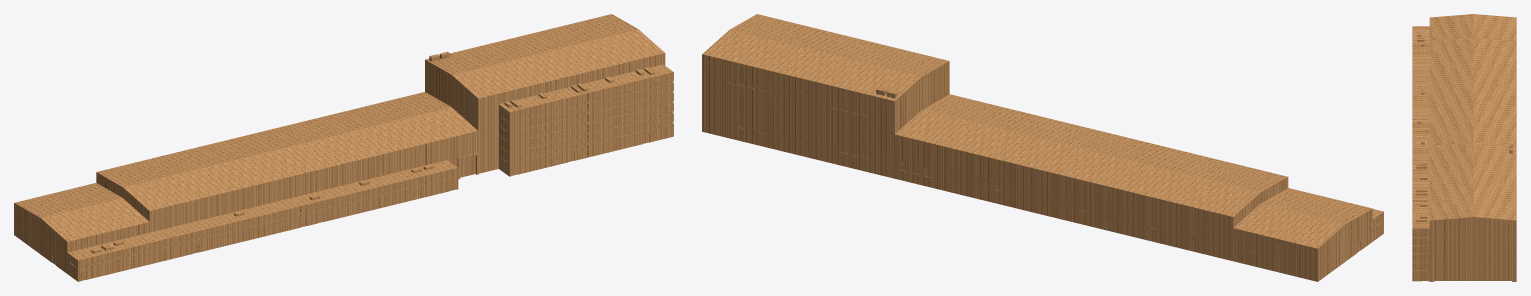
Rendered from Shipyard.FBX.
3 renders of one model, left to right at view 1: azimuth 30°, elevation 25°; view 2: azimuth 150°, elevation 25°; view 3: azimuth 270°, elevation 25°, orthographic. The views are drawn at different scales.
Parts seen in each view (by area): view 1: Group1; view 2: Group1; view 3: Group1.
Boxes of the visible parts, x1=… form: Group1: x1=14, y1=14, x2=673, y2=281; Group1: x1=702, y1=14, x2=1383, y2=281; Group1: x1=1412, y1=14, x2=1516, y2=281.
Size of the model in its own units: 11.46 by 1.46 by 2.13.
Materials: 5 (5 with a texture image).
